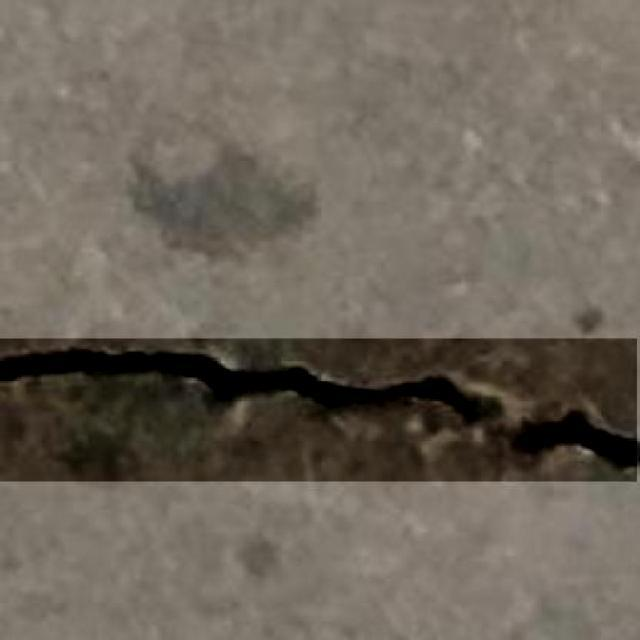crack: (0, 326, 640, 494)
